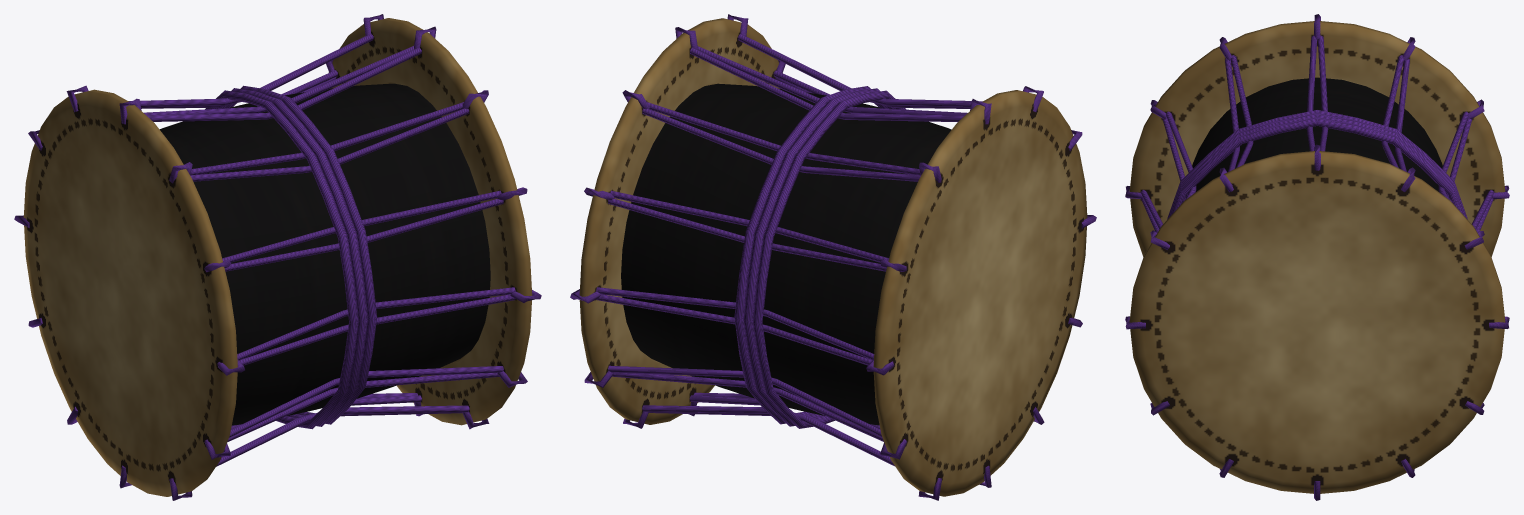
File: inst_shaku_4.glb
3 renders of one model, left to right at view 1: azimuth 30°, elevation 25°; view 2: azimuth 150°, elevation 25°; view 3: azimuth 270°, elevation 25°, orthographic. The views are drawn at different scales.
Parts seen in each view (by area): view 1: inst_shaku_4; view 2: inst_shaku_4; view 3: inst_shaku_4.
Part boxes in pixels (left/top/right/bottom): inst_shaku_4: left=14, top=14, right=541, bottom=500; inst_shaku_4: left=570, top=14, right=1096, bottom=500; inst_shaku_4: left=1125, top=14, right=1509, bottom=500.
Size of the model in its own units: 0.2809 by 0.3277 by 0.3277.
Materials: 1 (1 with a texture image).
